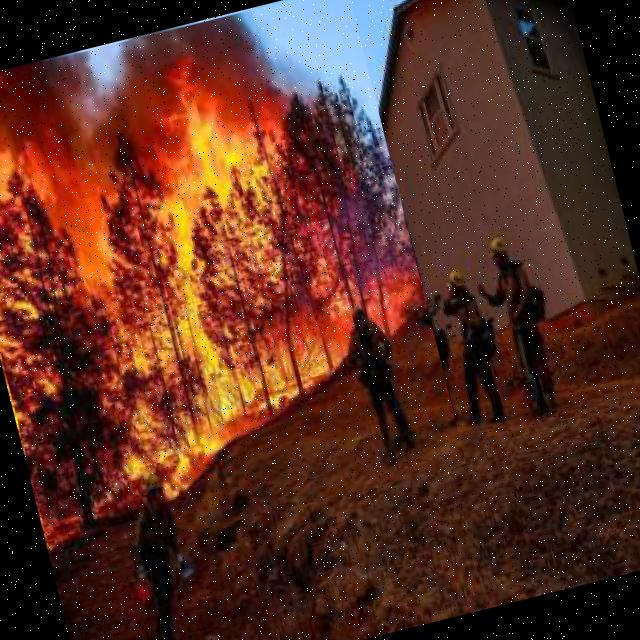fire: (0, 0, 465, 565)
